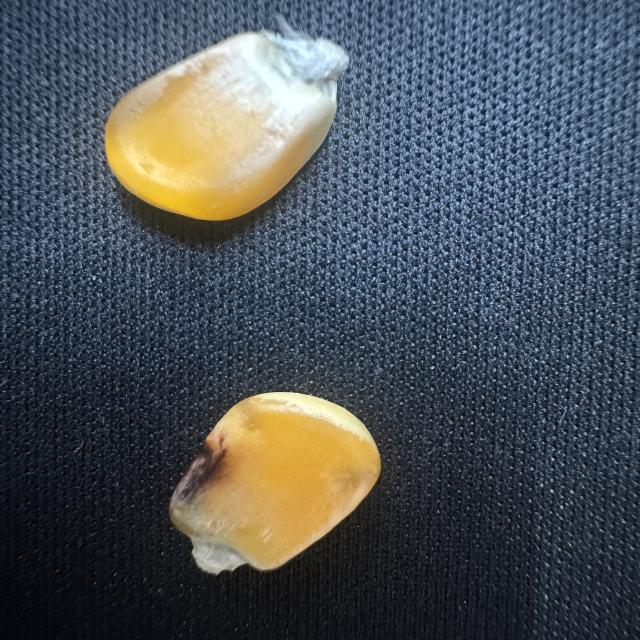Bad-Seed: (162, 389, 390, 583)
Good-Seed: (89, 15, 367, 243)
